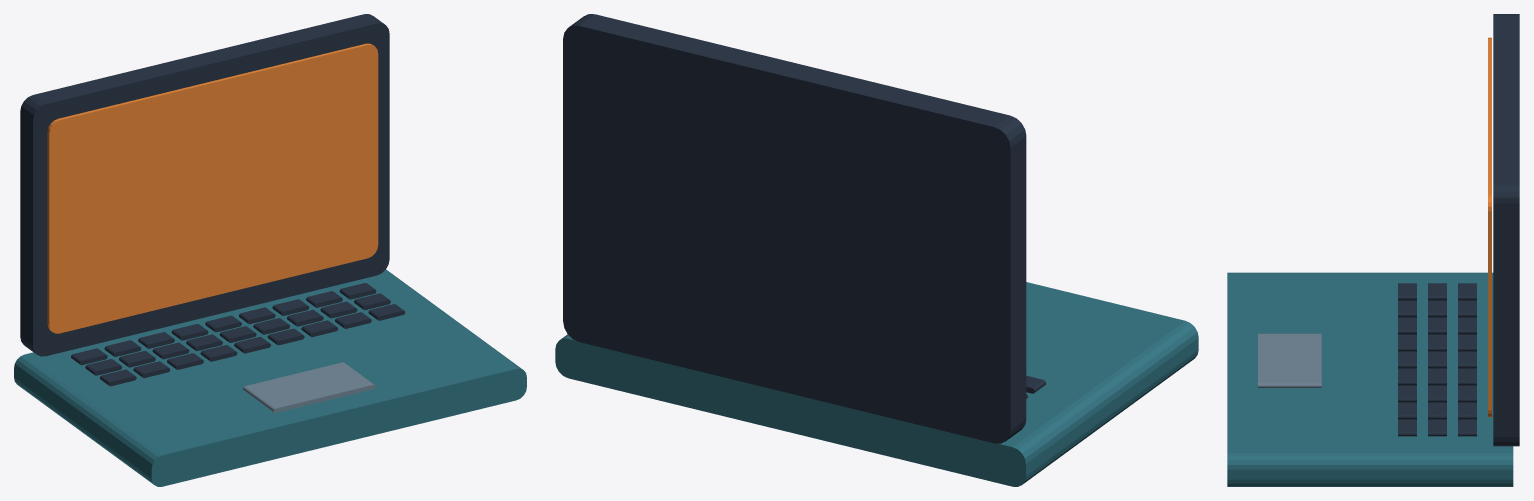
Rendered from laptop.glb.
The picture shows the model from 3 angles, left to right: view 1: azimuth 30°, elevation 25°; view 2: azimuth 150°, elevation 25°; view 3: azimuth 270°, elevation 25°; orthographic projection. The views are drawn at different scales.
Parts seen in each view (by area): view 1: display glass, base, display bezel, trackpad; view 2: display bezel, base; view 3: base, display bezel, trackpad, display glass, key 0-0, key 0-1, key 0-2, key 0-3, key 0-4, key 0-5, key 0-6, key 0-7 (+19 smaller).
Boxes of the visible parts, bbox=[...] form: display glass: bbox=[47, 43, 378, 333]; base: bbox=[14, 269, 526, 486]; display bezel: bbox=[20, 14, 389, 356]; trackpad: bbox=[243, 362, 375, 412]; display bezel: bbox=[563, 14, 1026, 443]; base: bbox=[555, 282, 1198, 486]; base: bbox=[1227, 272, 1513, 486]; display bezel: bbox=[1493, 14, 1519, 446]; trackpad: bbox=[1258, 333, 1321, 387]; display glass: bbox=[1488, 37, 1491, 417]; key 0-0: bbox=[1458, 283, 1476, 300]; key 0-1: bbox=[1458, 300, 1476, 317]; key 0-2: bbox=[1458, 317, 1476, 334]; key 0-3: bbox=[1458, 334, 1476, 351]; key 0-4: bbox=[1458, 351, 1476, 368]; key 0-5: bbox=[1458, 368, 1476, 385]; key 0-6: bbox=[1458, 385, 1476, 402]; key 0-7: bbox=[1458, 402, 1476, 419].
Bounding box in the file's own units: 1.62 × 1.18 × 1.05.
